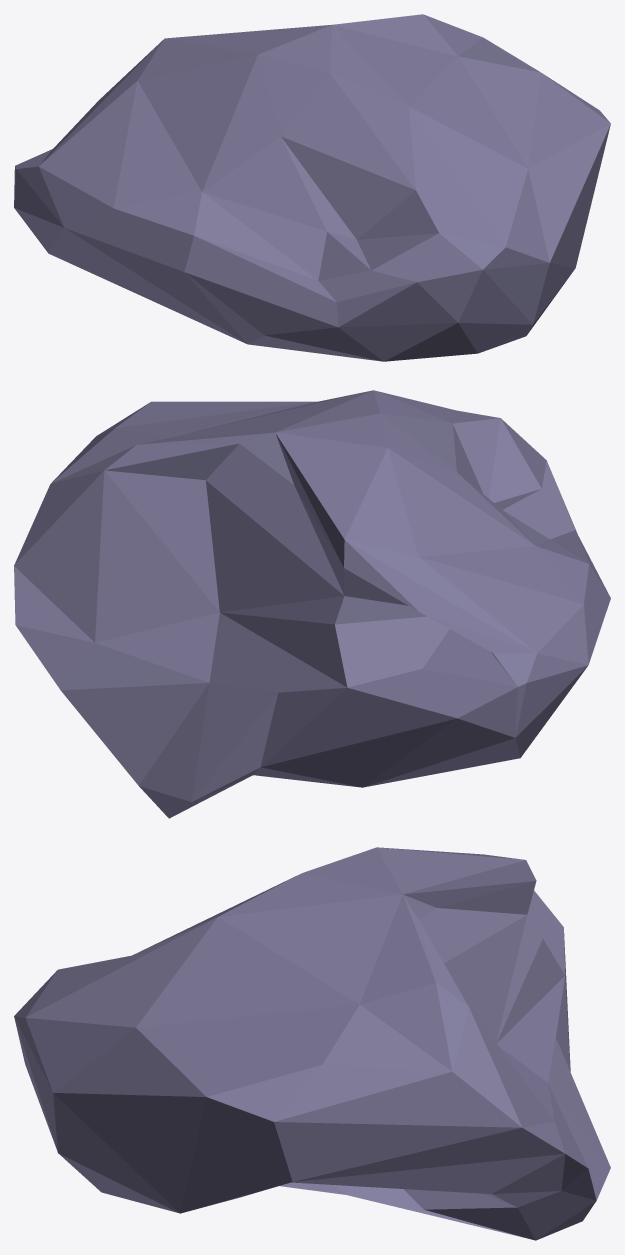
3 renders of one model, top to bottom at view 1: azimuth 30°, elevation 25°; view 2: azimuth 150°, elevation 25°; view 3: azimuth 270°, elevation 25°, orthographic. The views are drawn at different scales.
Visible parts, largest first — view 1: Sphere; view 2: Sphere; view 3: Sphere.
Part boxes in pixels (x1,y1,x2,y2): Sphere: (14,14,610,361); Sphere: (14,390,610,818); Sphere: (14,847,610,1240).
Bounding box in the file's own units: 212 × 120 × 199.
